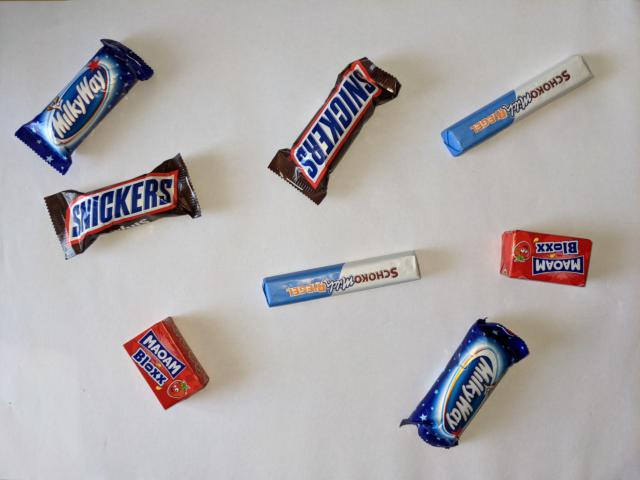MilkyWay: (11, 36, 156, 178), (396, 315, 534, 453)
Schokoriegel: (437, 52, 597, 160), (259, 248, 423, 310), (120, 314, 212, 413), (497, 226, 595, 290)
Snickers: (265, 55, 404, 207), (41, 150, 204, 264)
